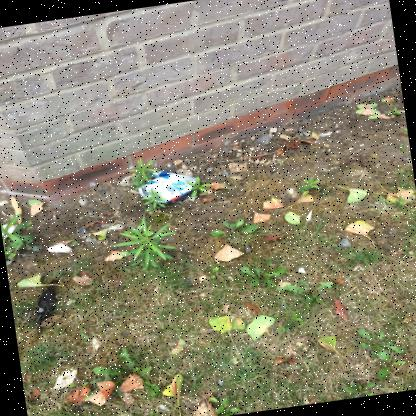Crisp packet: (138, 170, 196, 202)
